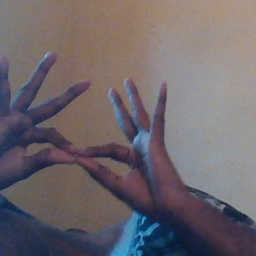B: (11, 89, 143, 200)
